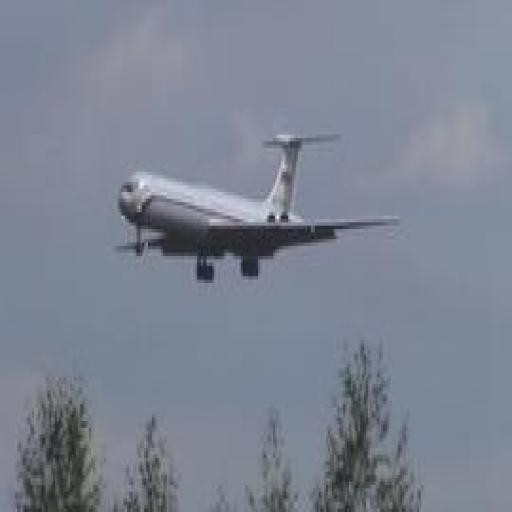aircraft: (116, 131, 400, 283)
